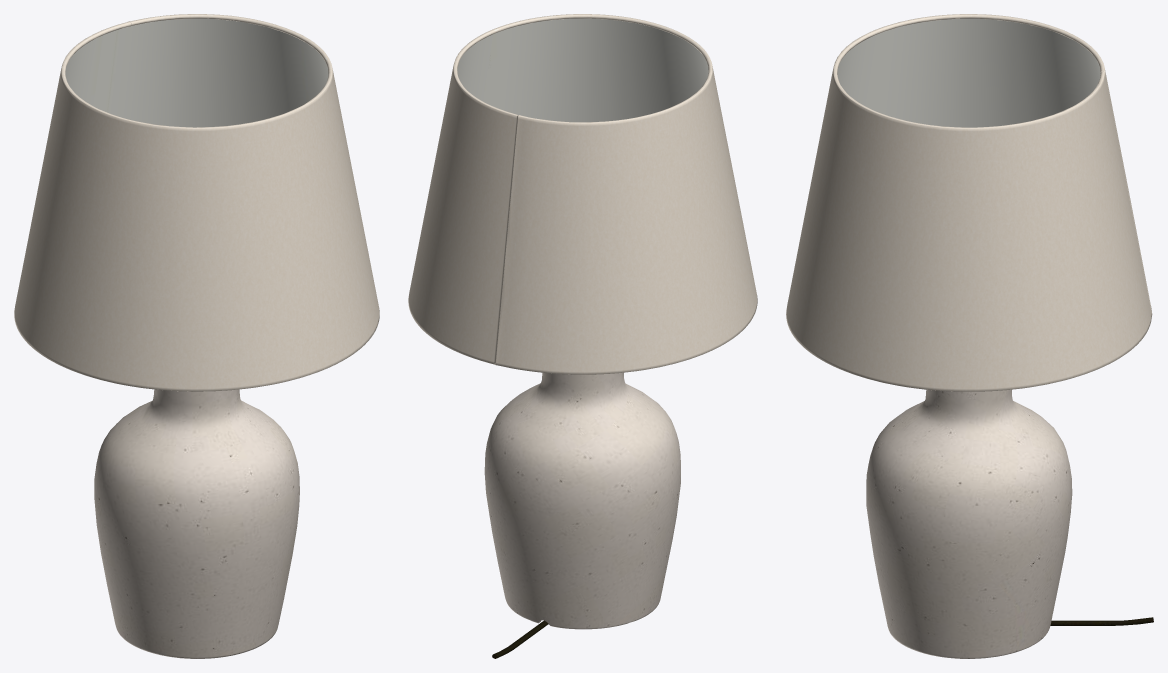
The model's file is blidvader_lampa_stoowa_80501258.glb.
The picture shows the model from 3 angles, left to right: view 1: azimuth 30°, elevation 25°; view 2: azimuth 150°, elevation 25°; view 3: azimuth 270°, elevation 25°; orthographic projection. The views are drawn at different scales.
Parts seen in each view (by area): view 1: blidvader_lampa_stoowa_80501258; view 2: blidvader_lampa_stoowa_80501258; view 3: blidvader_lampa_stoowa_80501258.
Part boxes in pixels (x1=…): blidvader_lampa_stoowa_80501258: x1=14, y1=14, x2=379, y2=658; blidvader_lampa_stoowa_80501258: x1=408, y1=14, x2=757, y2=658; blidvader_lampa_stoowa_80501258: x1=786, y1=14, x2=1153, y2=658.
Size of the model in its own units: 0.2995 by 0.5007 by 0.3011.
2 materials, 2 textured.
